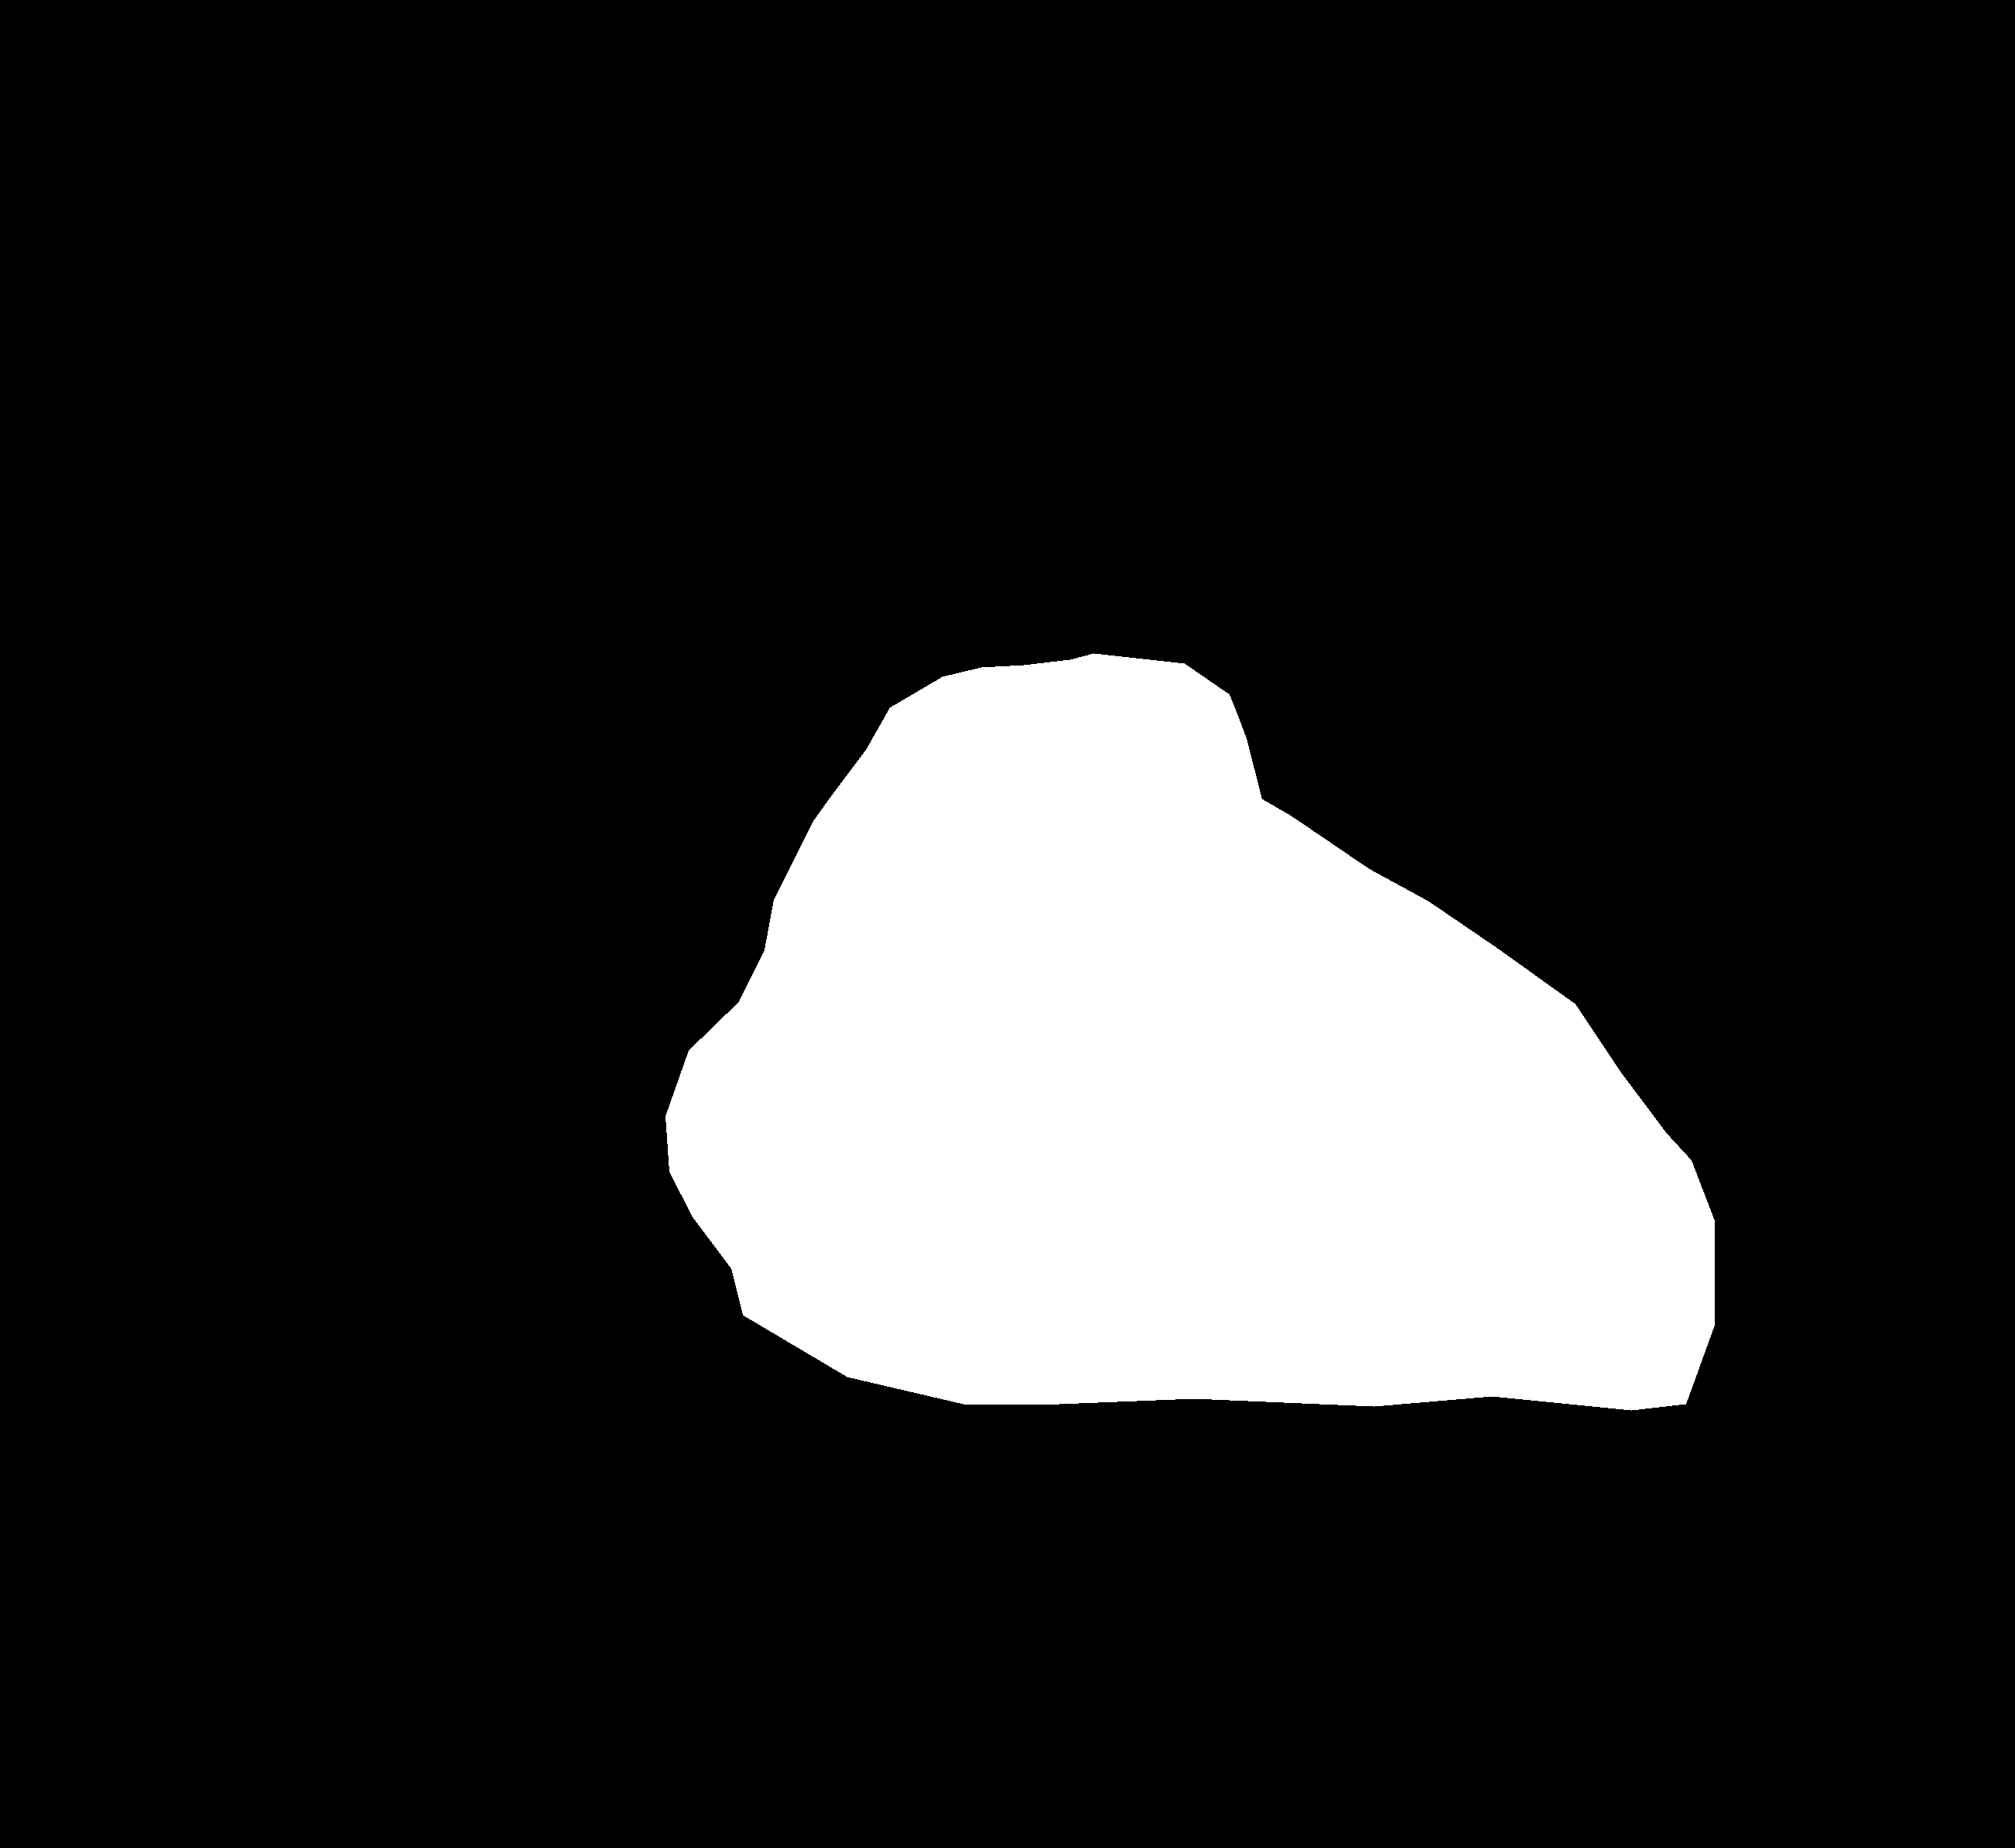heart: (665, 653, 1715, 1409)
left_lung: (305, 146, 964, 1388)
right_lung: (1141, 181, 1768, 1479)
